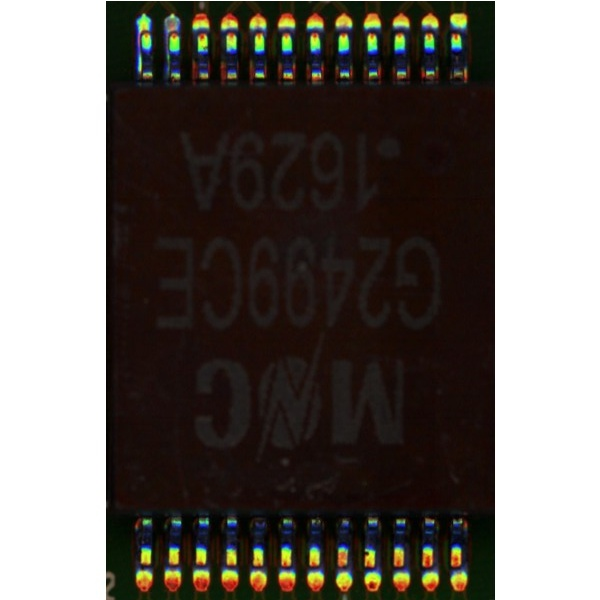Bad_podu: (142, 22, 150, 36), (169, 26, 179, 37)
Bad_qiaojiao: (137, 32, 142, 74), (165, 32, 169, 81)
